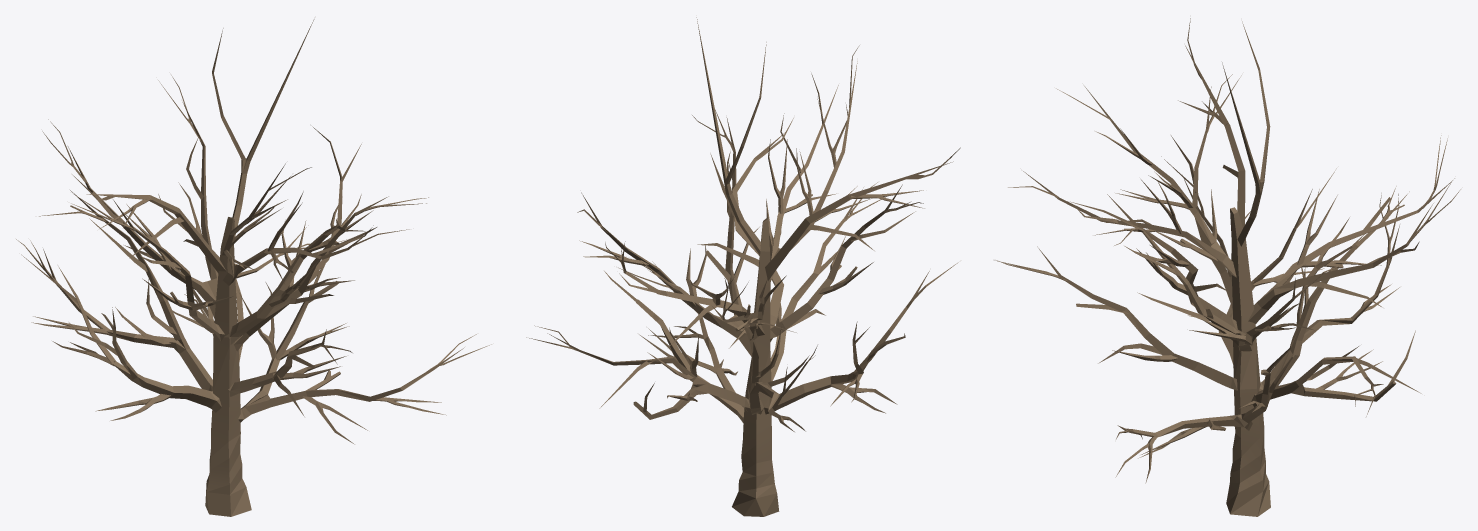
Rendered from tree_bare_a_18.FBX.
The picture shows the model from 3 angles, left to right: view 1: azimuth 30°, elevation 25°; view 2: azimuth 150°, elevation 25°; view 3: azimuth 270°, elevation 25°; orthographic projection. The views are drawn at different scales.
Visible parts, largest first — view 1: tree_bare_a_18; view 2: tree_bare_a_18; view 3: tree_bare_a_18.
Part boxes in pixels (bbox=[...]): tree_bare_a_18: bbox=[16, 19, 491, 516]; tree_bare_a_18: bbox=[526, 17, 960, 516]; tree_bare_a_18: bbox=[994, 18, 1460, 516].
Bounding box in the file's own units: 6.04 × 7.22 × 6.35.
